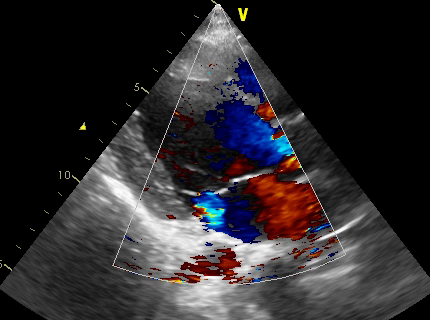MR: (194, 170, 255, 245)
